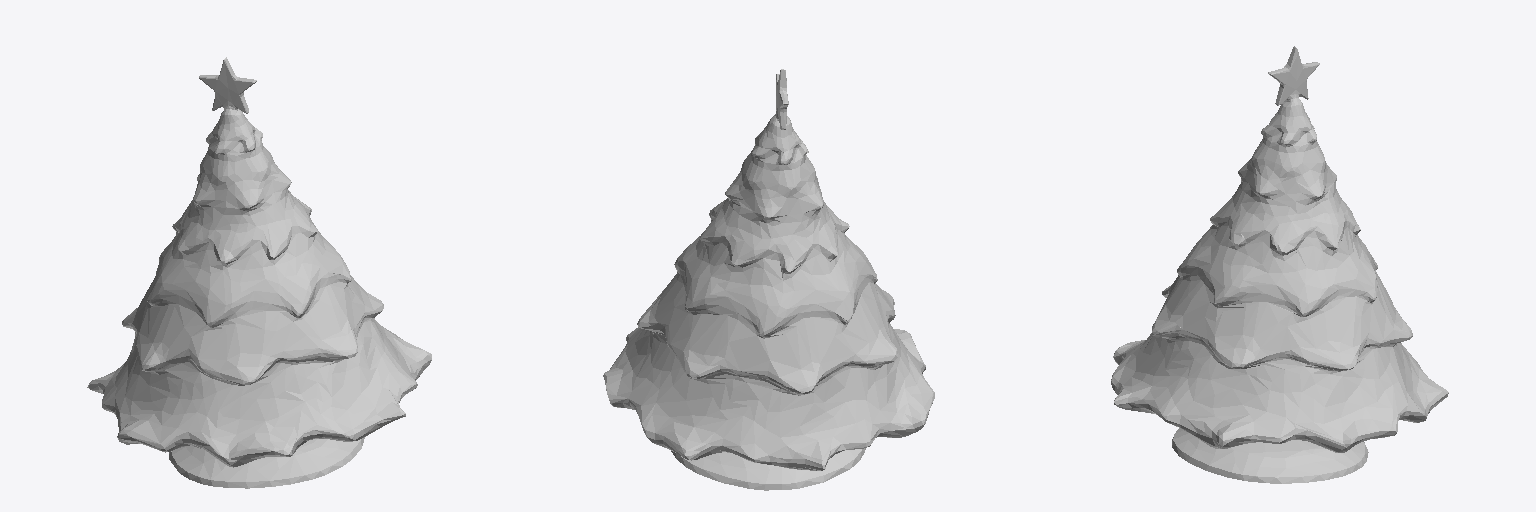
The model's file is sapin.obj.
3 views of the same model, side by side, from view 1: azimuth 30°, elevation 25°; view 2: azimuth 150°, elevation 25°; view 3: azimuth 270°, elevation 25° (orthographic).
Parts seen in each view (by area): view 1: sapin; view 2: sapin; view 3: sapin.
Boxes of the visible parts, x1=… form: sapin: x1=87, y1=57, x2=431, y2=488; sapin: x1=603, y1=69, x2=934, y2=490; sapin: x1=1111, y1=46, x2=1448, y2=483.
Bounding box in the file's own units: 15.96 × 20.5 × 15.85.